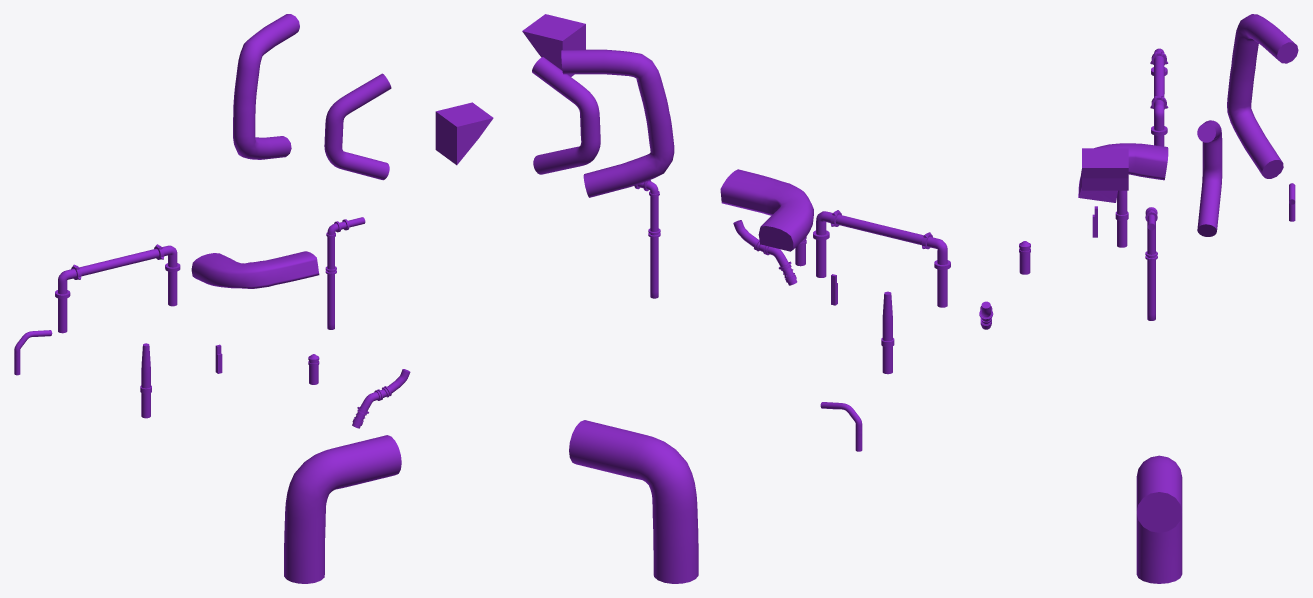
Rendered from purplegroupmeshexport.obj.
3 renders of one model, left to right at view 1: azimuth 30°, elevation 25°; view 2: azimuth 150°, elevation 25°; view 3: azimuth 270°, elevation 25°, orthographic. The views are drawn at different scales.
Parts seen in each view (by area): view 1: g default_default_1001; view 2: g default_default_1001; view 3: g default_default_1001.
Part boxes in pixels (x1=…): g default_default_1001: x1=14, y1=14, x2=493, y2=583; g default_default_1001: x1=522, y1=14, x2=950, y2=583; g default_default_1001: x1=979, y1=14, x2=1298, y2=583.
Size of the model in its own units: 97.6 by 118 by 61.08.
